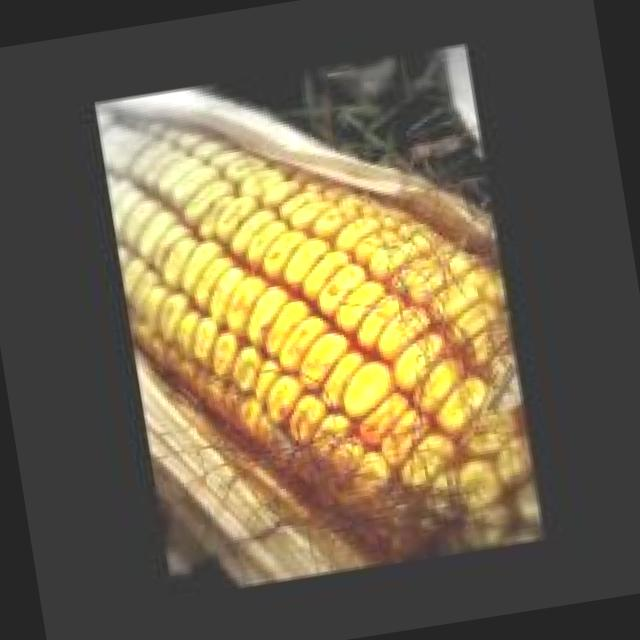corn: (98, 94, 545, 565)
